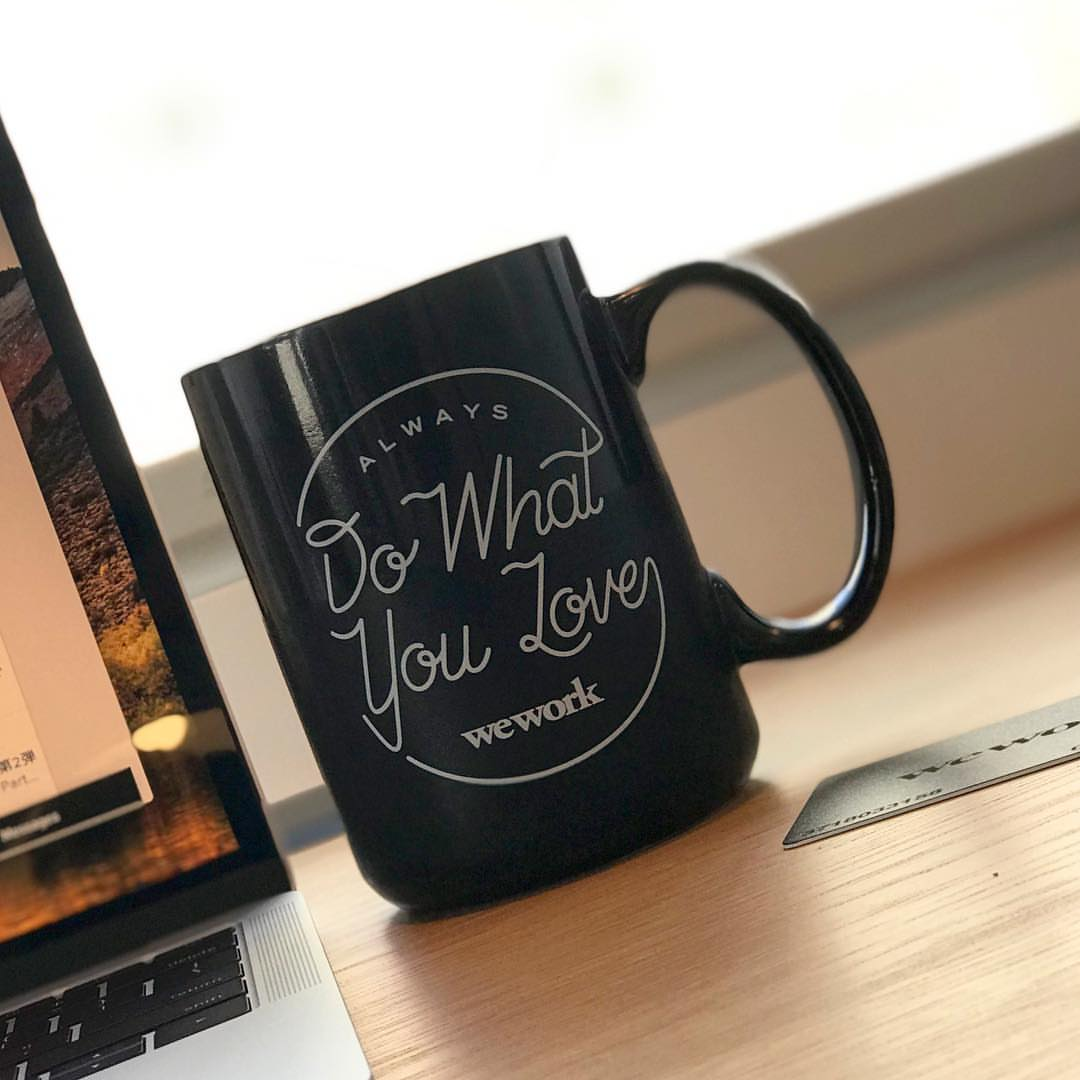wework: (454, 675, 614, 752)
